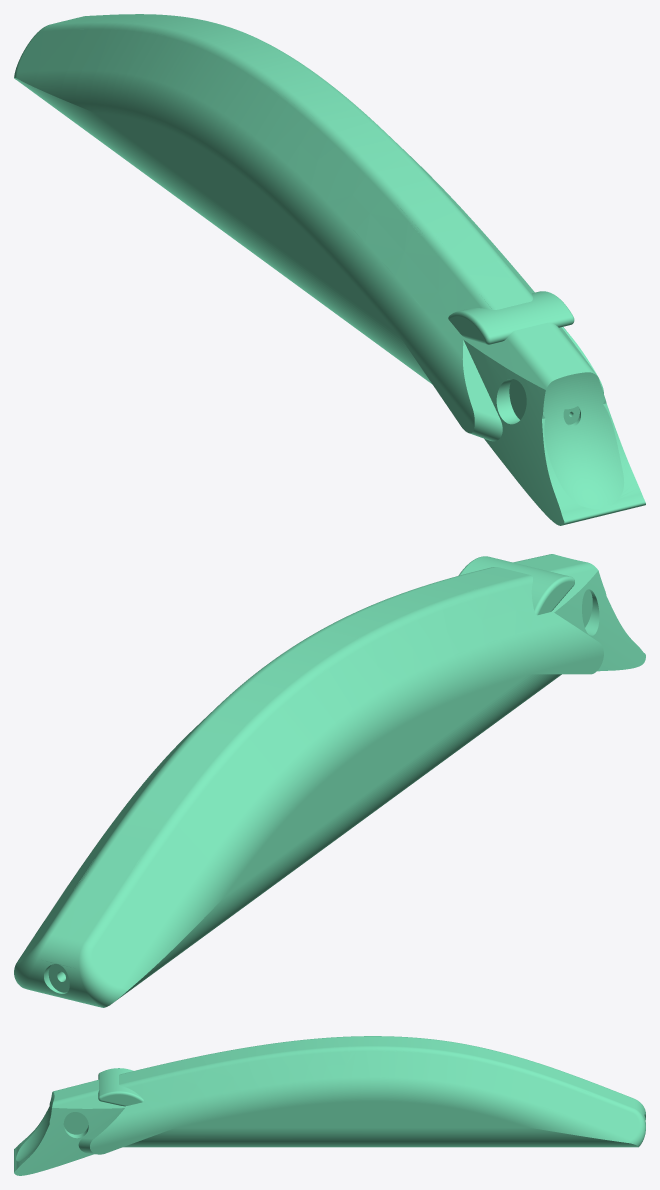
Rendered from BREATHRIDE110.glb.
The picture shows the model from 3 angles, top to bottom: view 1: azimuth 30°, elevation 25°; view 2: azimuth 150°, elevation 25°; view 3: azimuth 270°, elevation 25°; orthographic projection. The views are drawn at different scales.
Parts seen in each view (by area): view 1: ブレスライド110F V14 15 110 23.5 stl修正; view 2: ブレスライド110F V14 15 110 23.5 stl修正; view 3: ブレスライド110F V14 15 110 23.5 stl修正.
Boxes of the visible parts, x1,y1,x2,y2 form: ブレスライド110F V14 15 110 23.5 stl修正: (14,14,645,525); ブレスライド110F V14 15 110 23.5 stl修正: (14,554,645,1007); ブレスライド110F V14 15 110 23.5 stl修正: (14,1036,645,1175).
Size of the model in its own units: 15 by 23.5 by 110.
